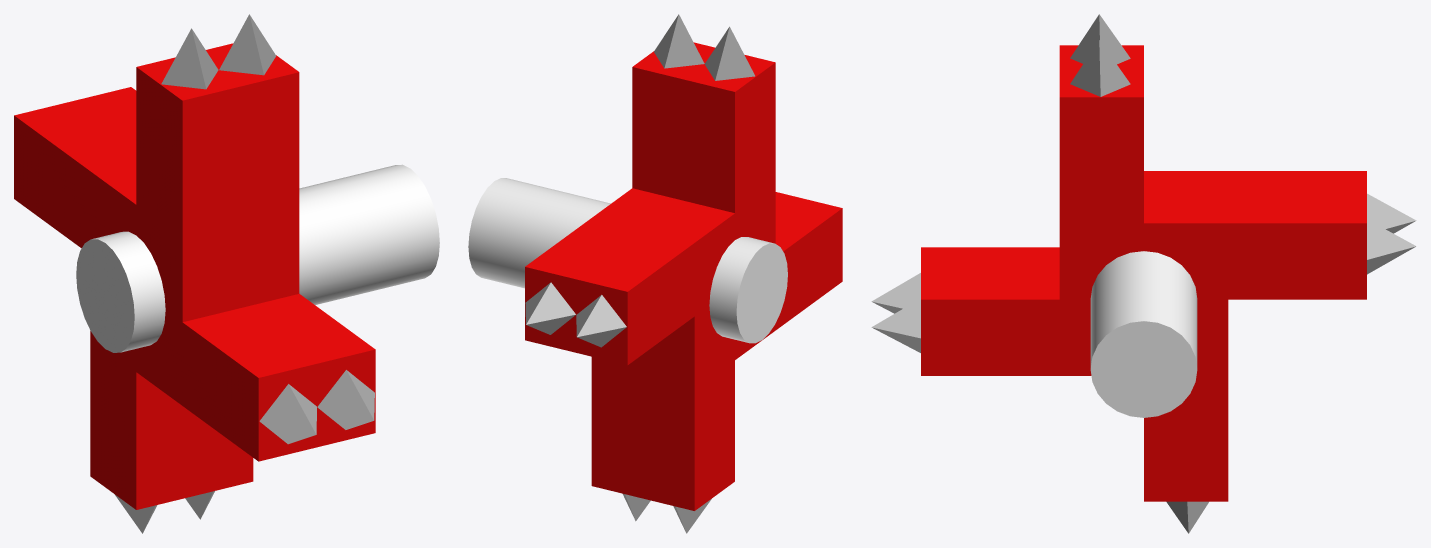
File: spiker.fbx
The picture shows the model from 3 angles, left to right: view 1: azimuth 30°, elevation 25°; view 2: azimuth 150°, elevation 25°; view 3: azimuth 270°, elevation 25°; orthographic projection. The views are drawn at different scales.
Parts seen in each view (by area): view 1: blade1, Group2, blade4, blade3, blade2, Group_28_7, Group_28_8, Group_28_2, Group_28_1, Group_28_6; view 2: blade3, blade2, blade1, Group2, blade4, Group_28_4, Group_28_3, Group_28_1, Group_28_2, Group_28_6; view 3: blade2, blade4, blade1, Group2, blade3, Group_28_1, Group_28_3, Group_28_7, Group_28_2, Group_28_4, Group_28_8, Group_28_5.
Boxes of the visible parts, bbox=[...] form: blade1: bbox=[136, 43, 299, 322]; Group2: bbox=[76, 164, 439, 352]; blade4: bbox=[136, 294, 375, 461]; blade3: bbox=[90, 331, 253, 509]; blade2: bbox=[14, 87, 136, 248]; Group_28_7: bbox=[317, 370, 374, 429]; Group_28_8: bbox=[259, 384, 316, 444]; Group_28_2: bbox=[161, 28, 218, 89]; Group_28_1: bbox=[219, 14, 275, 75]; Group_28_6: bbox=[114, 494, 157, 533]; blade3: bbox=[591, 306, 734, 510]; blade2: bbox=[525, 188, 734, 365]; blade1: bbox=[632, 42, 775, 243]; Group2: bbox=[468, 178, 787, 343]; blade4: bbox=[735, 192, 842, 359]; Group_28_4: bbox=[576, 295, 626, 347]; Group_28_3: bbox=[525, 282, 575, 334]; Group_28_1: bbox=[654, 14, 704, 68]; Group_28_2: bbox=[704, 26, 754, 80]; Group_28_6: bbox=[673, 498, 711, 533]; blade2: bbox=[1144, 171, 1366, 299]; blade4: bbox=[921, 247, 1091, 375]; blade1: bbox=[1059, 45, 1143, 299]; Group2: bbox=[1090, 251, 1197, 417]; blade3: bbox=[1144, 299, 1228, 501]; Group_28_1: bbox=[1070, 40, 1130, 96]; Group_28_3: bbox=[1367, 219, 1416, 274]; Group_28_7: bbox=[871, 298, 920, 352]; Group_28_2: bbox=[1070, 14, 1130, 64]; Group_28_4: bbox=[1367, 193, 1416, 233]; Group_28_8: bbox=[871, 273, 920, 313]; Group_28_5: bbox=[1166, 501, 1208, 533].
Size of the model in its own units: 163 by 277 by 277.
